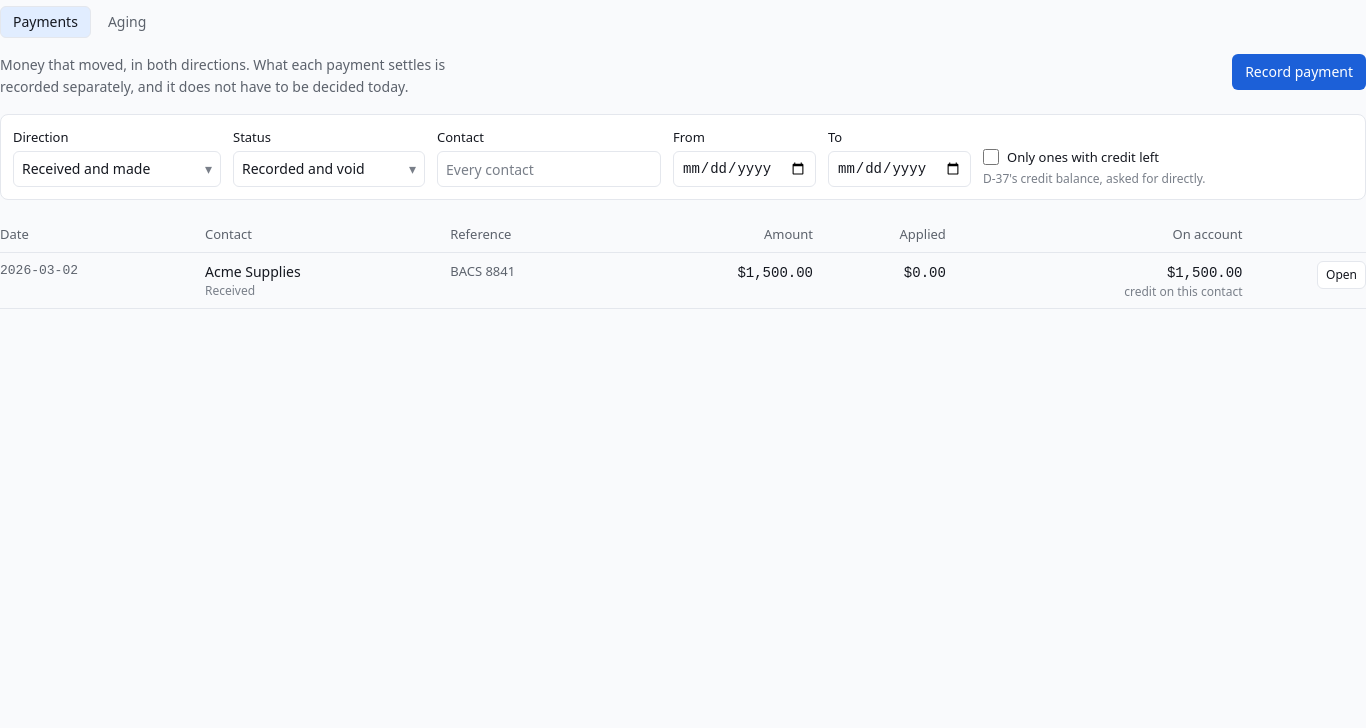
MoneyInScreen — payments › renders an over-allocation refusal with the repair that leaves the rest as credit
Click the button with aria-label "Open the 2026-03-02 payment for Acme Supplies" at (1342, 275), box [1317,261,1365,289]
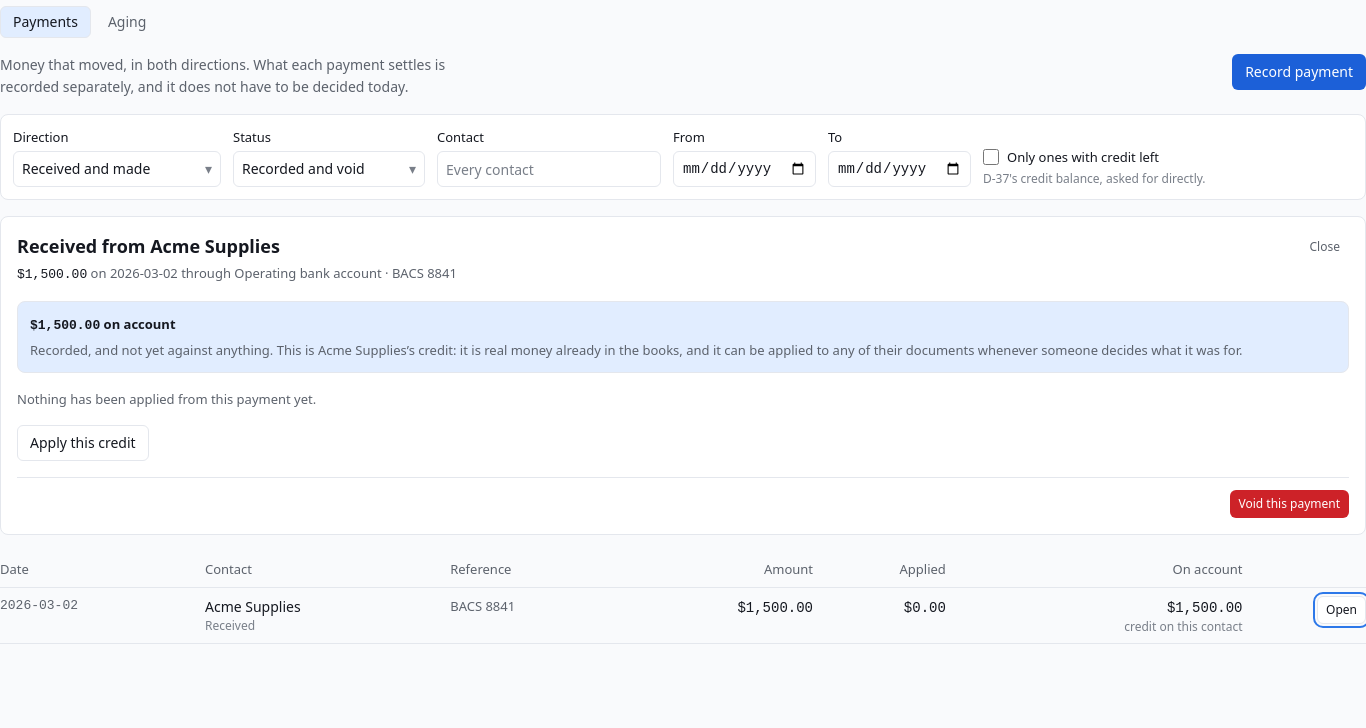
Click the button "Apply this credit" at (83, 443), box [17,425,149,461]
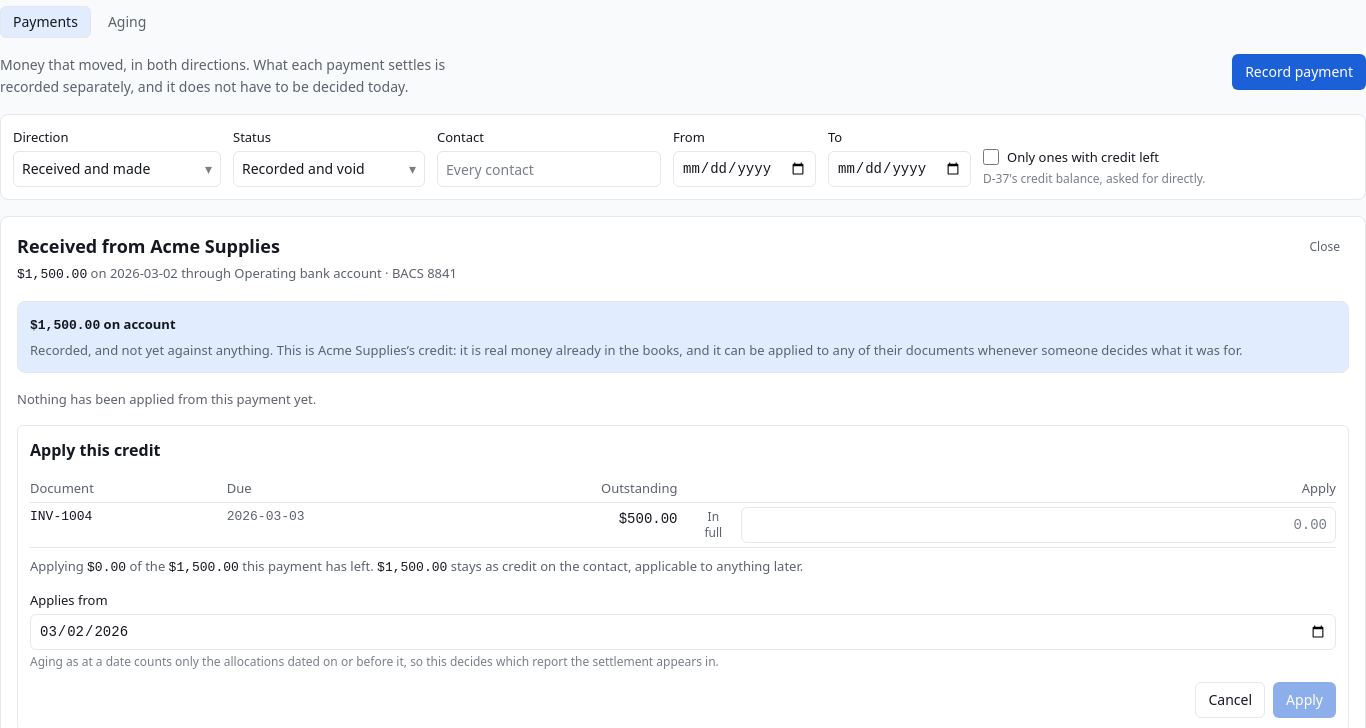
Type "800" into the field named "Amount to apply to INV-1004" at (1039, 525), box [741,507,1336,543]
(page scrolled)
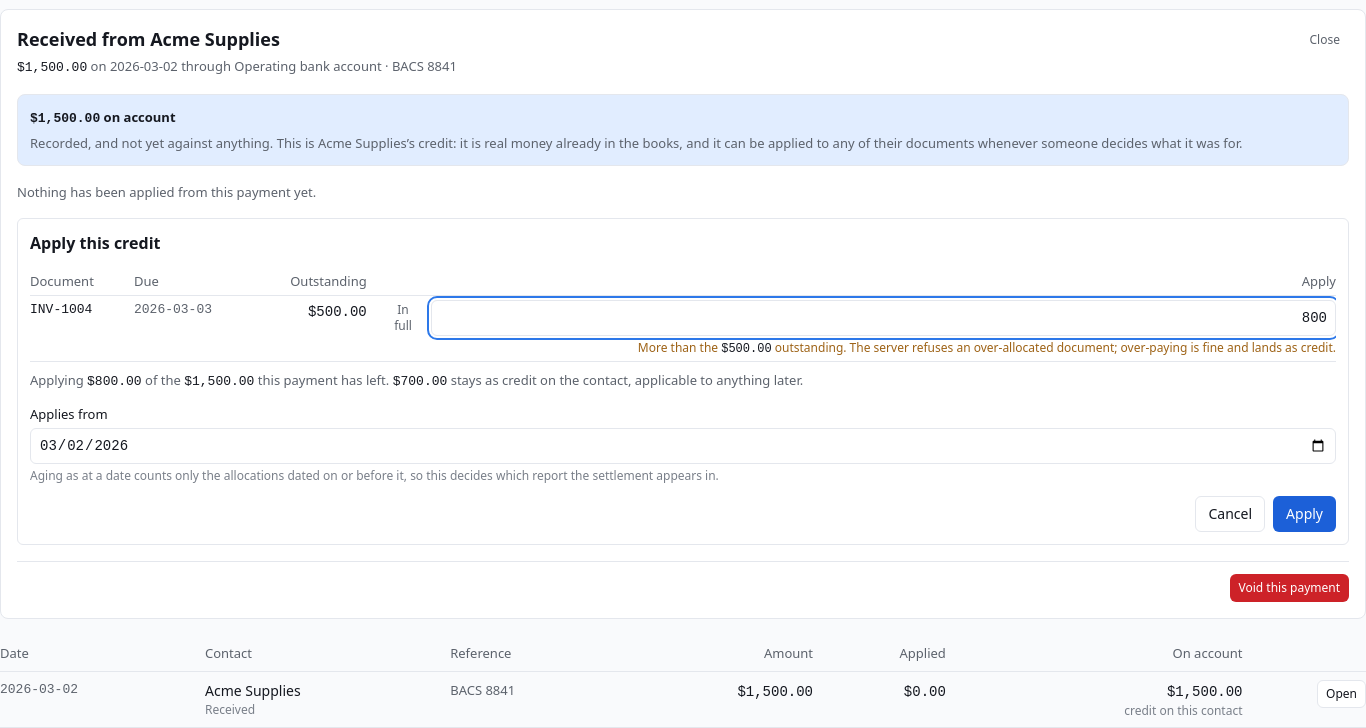
Click the button "Apply" at (1305, 514), box [1273,496,1336,532]
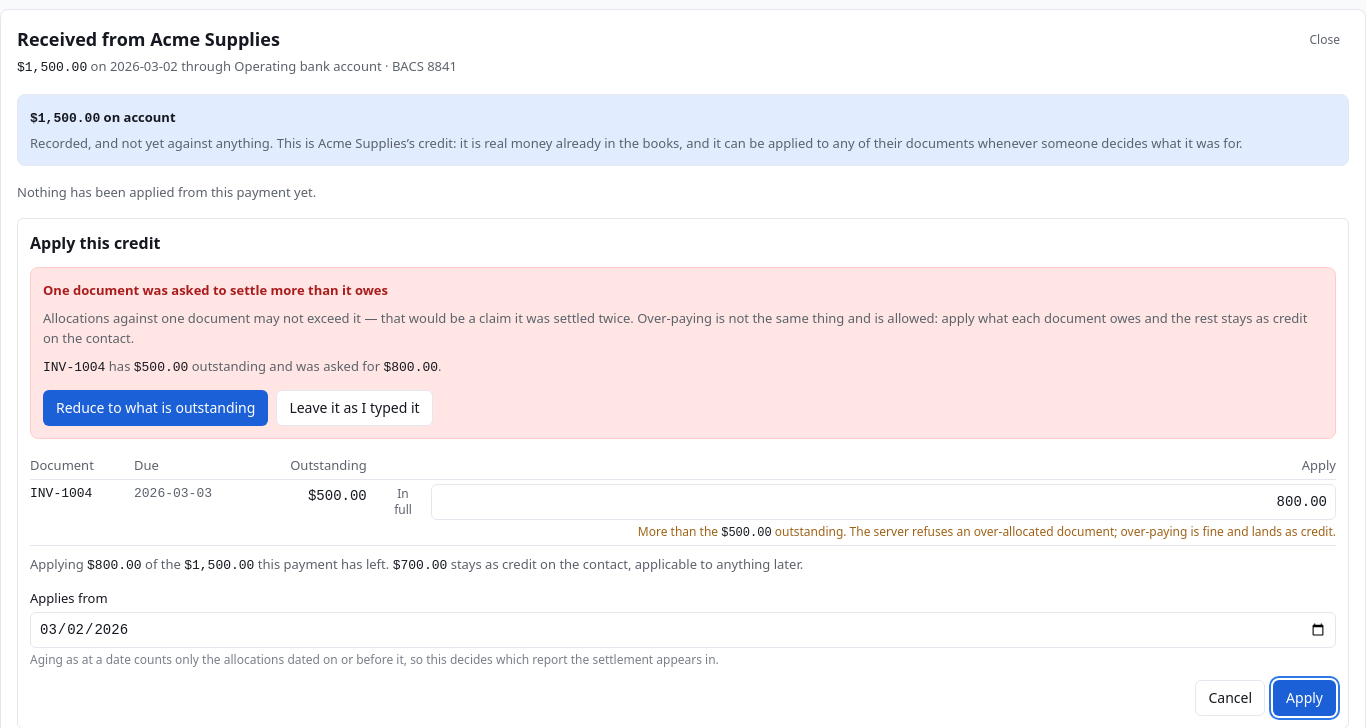
Expected: the message shows "One document was asked to settle more than it owes", [43,281,388,299]
Expected: the message shows "INV-1004 has $500.00 outstanding and was asked for $800.00", [30,267,1336,439]
Expected: the message shows "the rest stays as credit on the contact", [43,309,1307,347]
Click the button "Reduce to what is outstanding" at (156, 408), box [43,390,268,426]
(page scrolled)
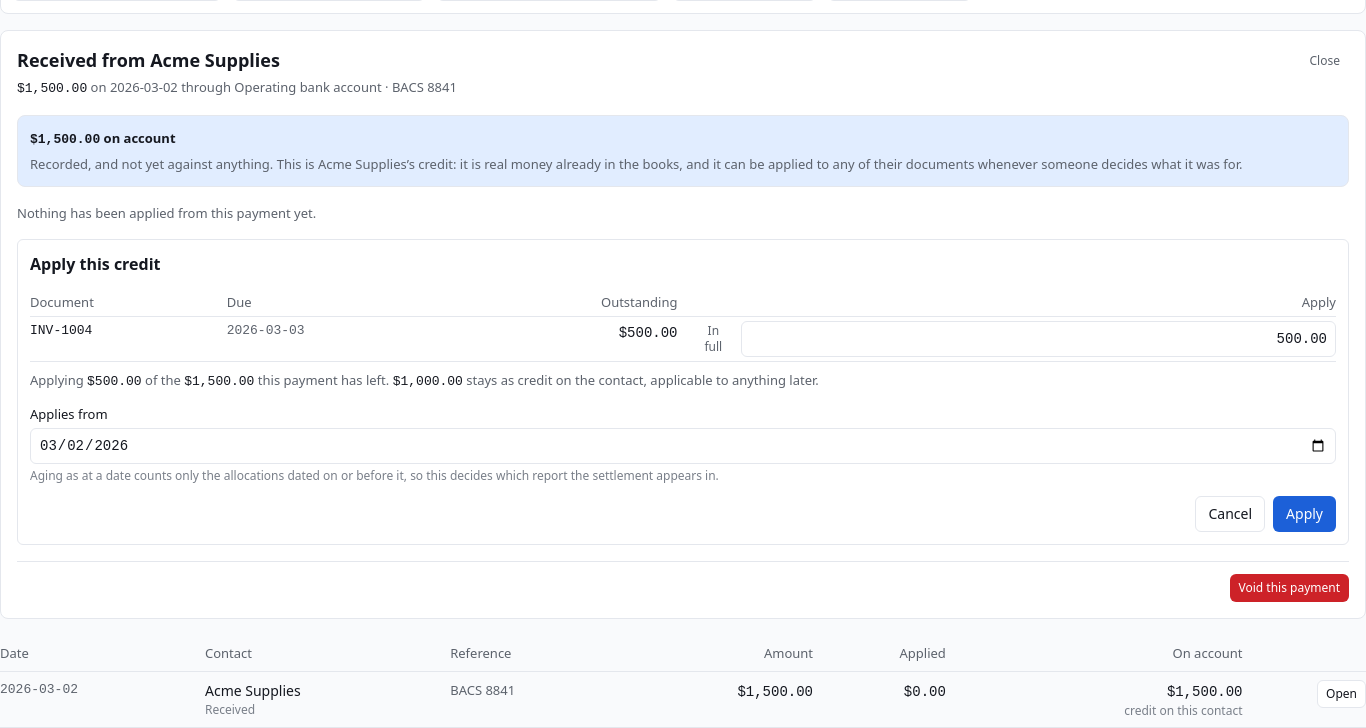
Expected: the field named "Amount to apply to INV-1004" holds "500.00", [741,321,1336,357]
Expected: the message is gone
